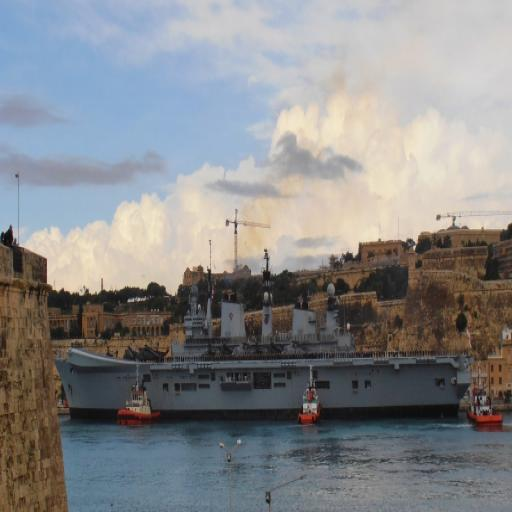Portanaves: (52, 266, 476, 427)
